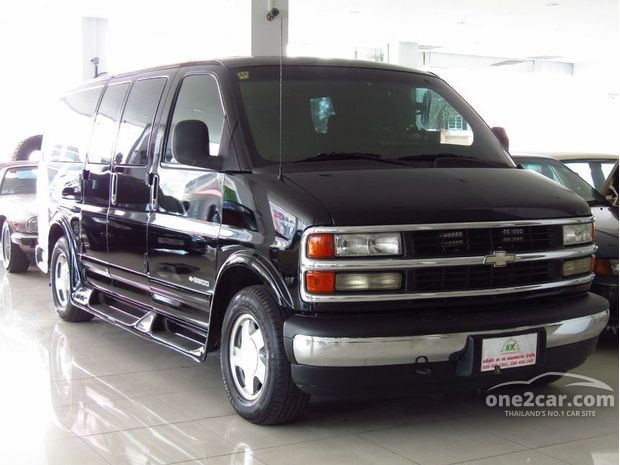van: (36, 53, 611, 424)
